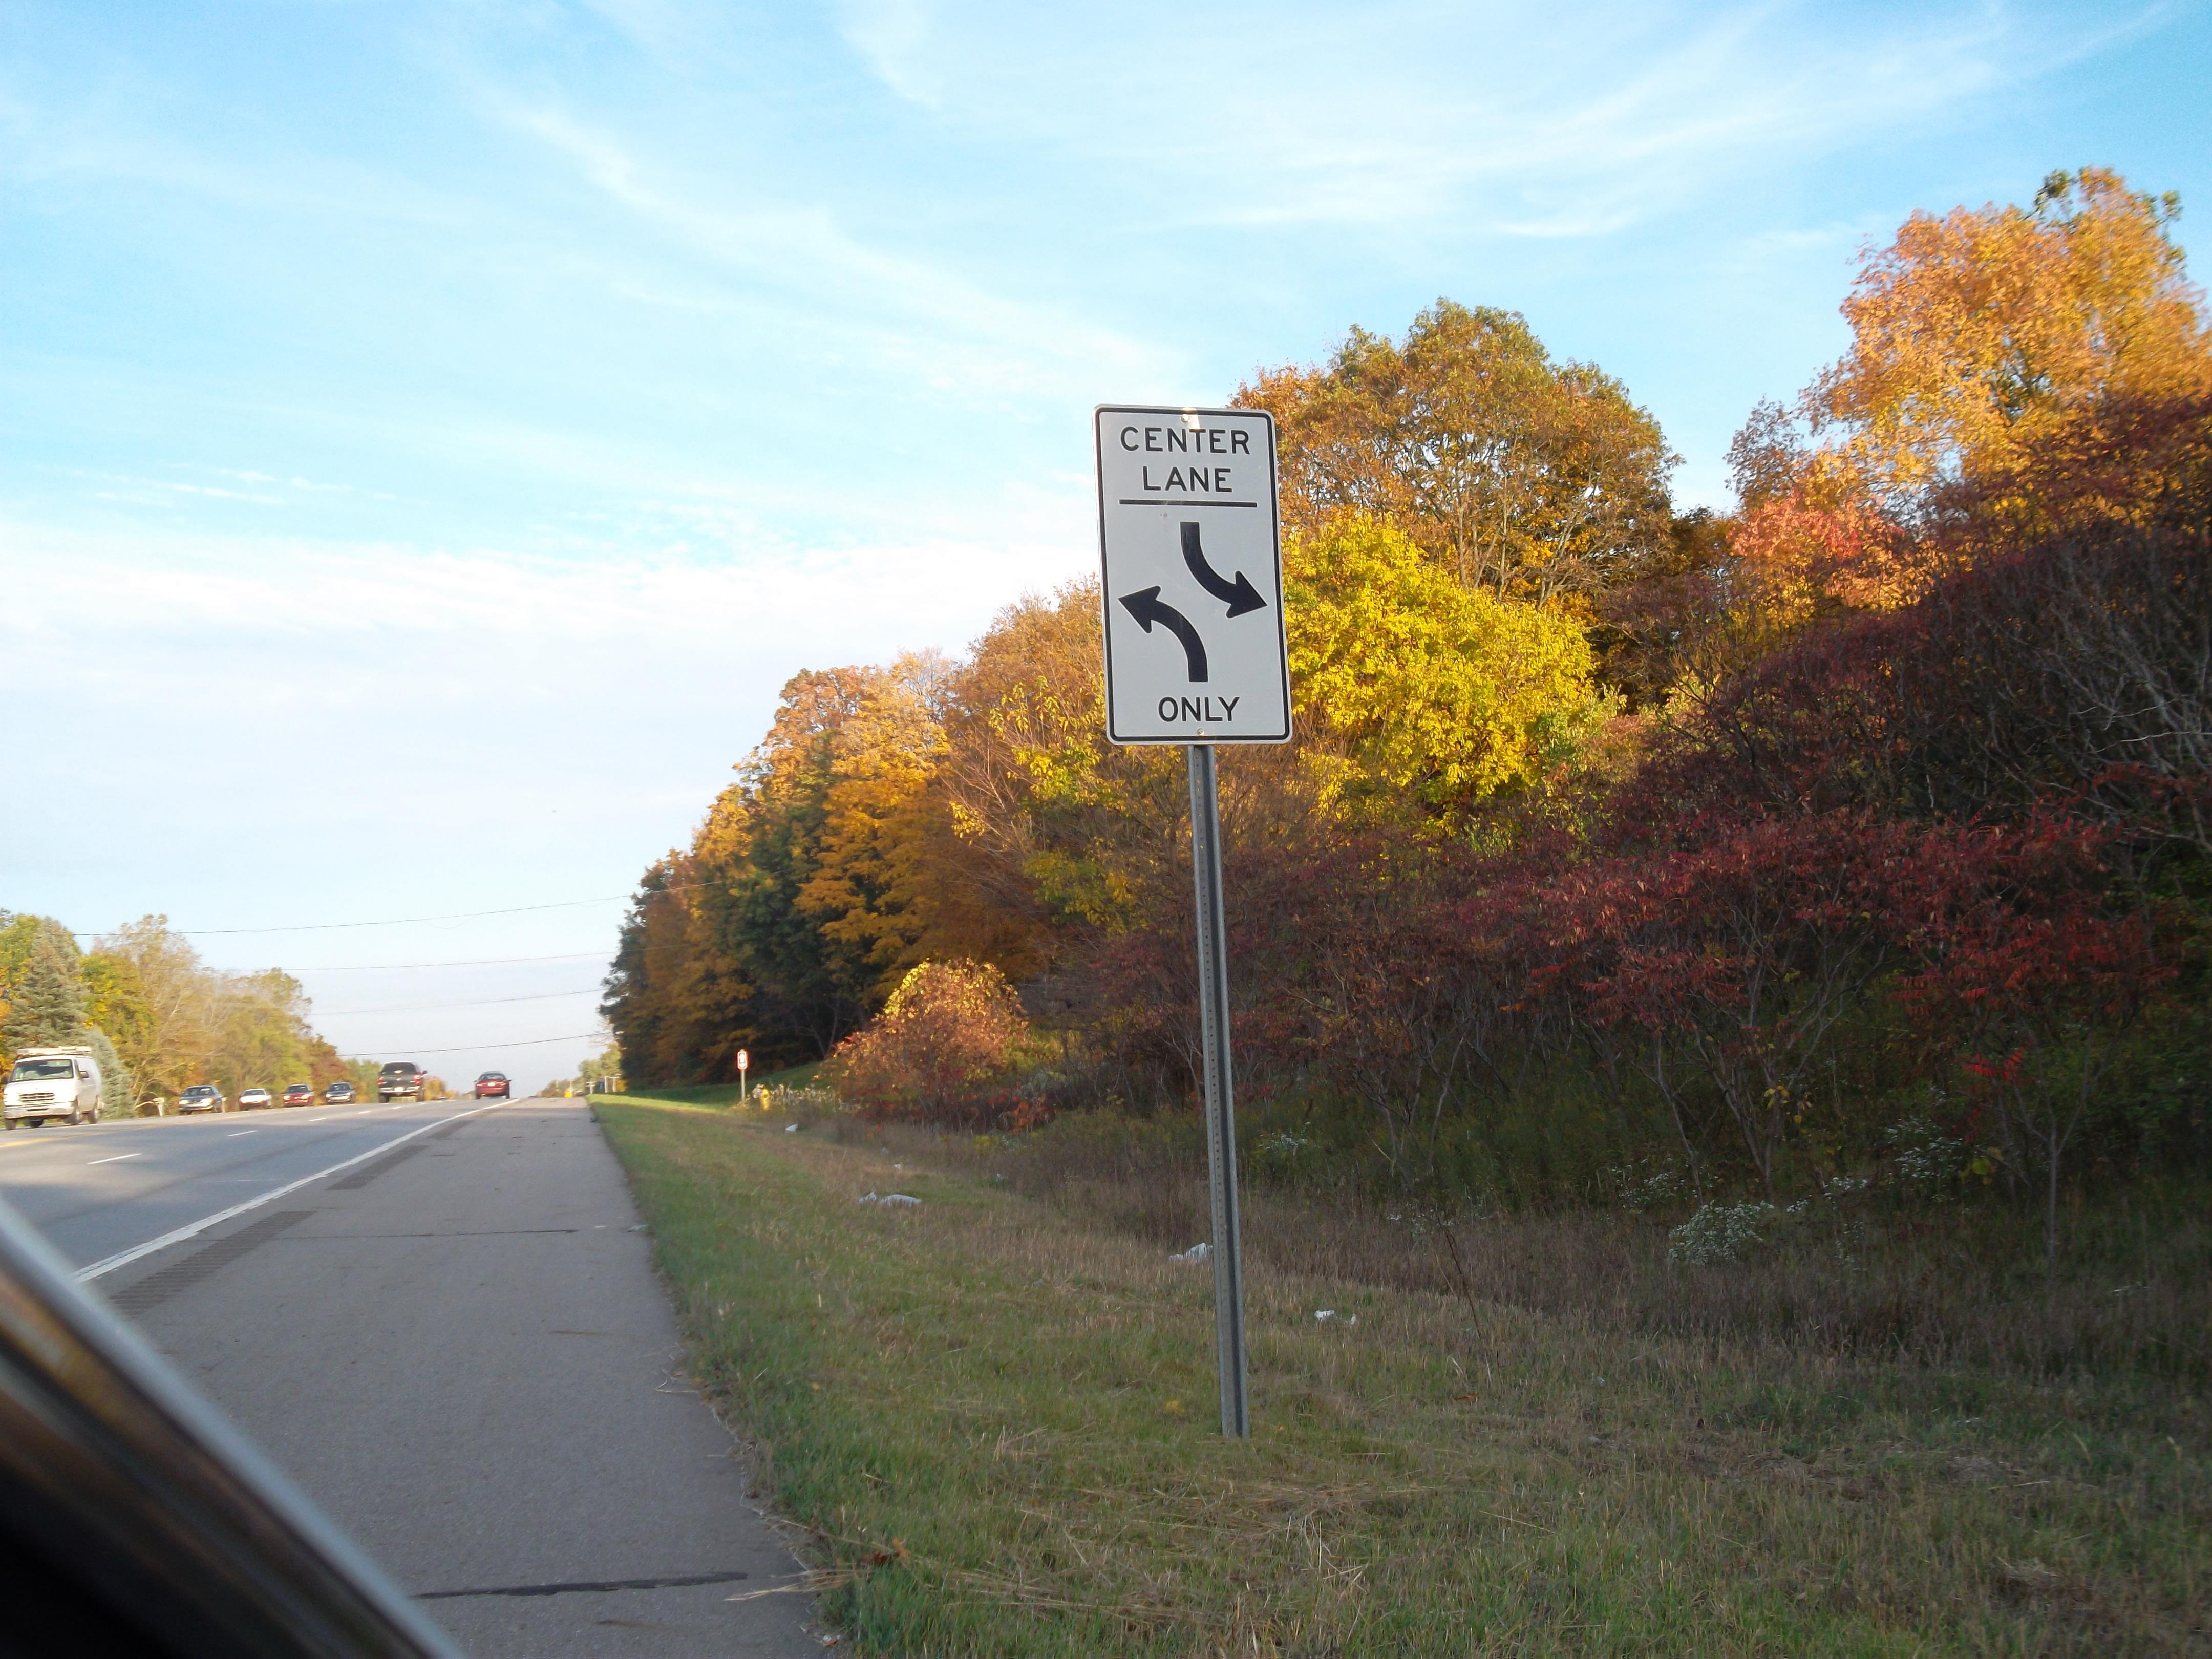regulatory: (1082, 396, 1301, 753)
